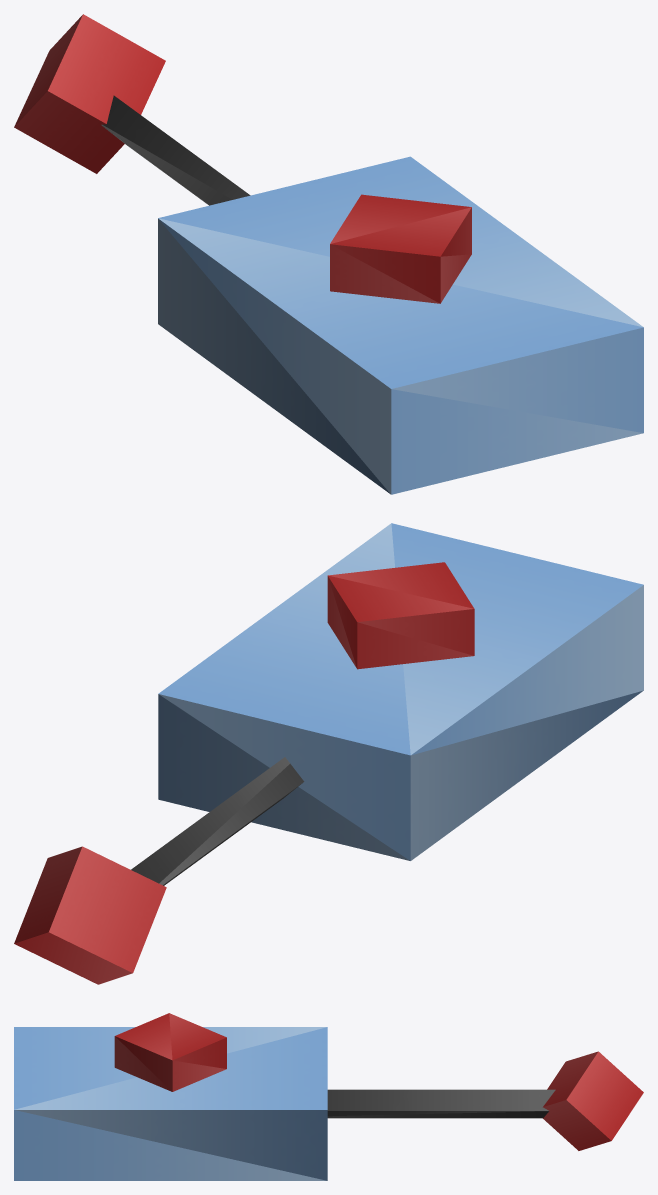
File: controller.glb
The picture shows the model from 3 angles, top to bottom: view 1: azimuth 30°, elevation 25°; view 2: azimuth 150°, elevation 25°; view 3: azimuth 270°, elevation 25°; orthographic projection. The views are drawn at different scales.
Parts seen in each view (by area): view 1: Controller; view 2: Controller; view 3: Controller.
Part boxes in pixels (x1,y1,x2,y2): Controller: (14, 14, 643, 494); Controller: (14, 523, 643, 984); Controller: (14, 1013, 643, 1180).
Size of the model in its own units: 0.25 by 0.1613 by 0.8032.
Materials: 1 (1 with a texture image).
